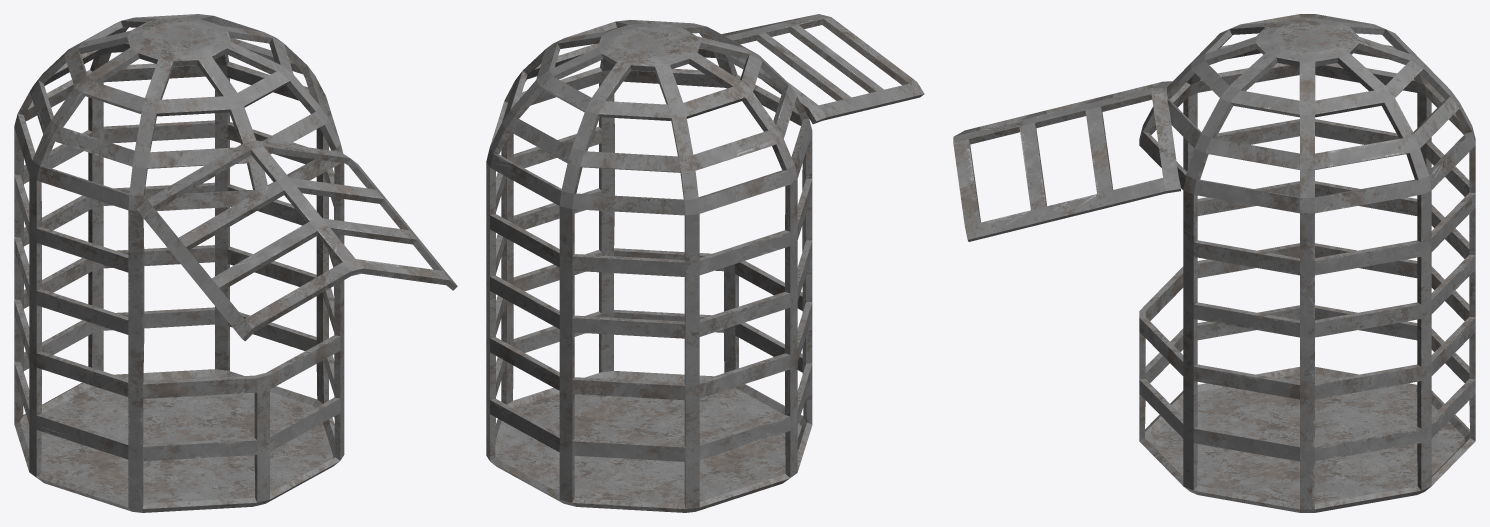
File: Trap 3.fbx
The picture shows the model from 3 angles, left to right: view 1: azimuth 30°, elevation 25°; view 2: azimuth 150°, elevation 25°; view 3: azimuth 270°, elevation 25°; orthographic projection.
Visible parts, largest first — view 1: Cylinder, Cylinder.001; view 2: Cylinder, Cylinder.001; view 3: Cylinder, Cylinder.001.
Part boxes in pixels (x1,y1,x2,y2): Cylinder: (14,14,344,512); Cylinder.001: (137,140,457,341); Cylinder: (486,19,812,512); Cylinder.001: (722,14,924,124); Cylinder: (1139,14,1475,512); Cylinder.001: (953,81,1180,241).
Size of the model in its own units: 196 by 263 by 305.
1 material, 1 textured.
